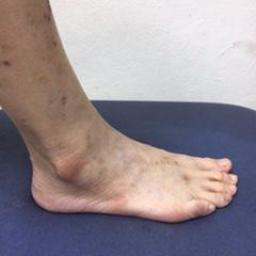Lateral View -Right Foot-: (12, 104, 244, 232)
